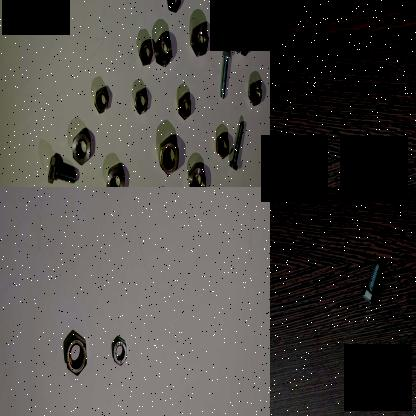Bolts: (360, 258, 387, 308), (43, 154, 79, 187), (230, 119, 248, 172), (217, 44, 232, 103)
NUTS: (63, 332, 91, 382), (72, 122, 95, 168), (158, 136, 181, 178), (152, 32, 174, 70), (233, 21, 257, 55), (110, 332, 130, 372), (190, 24, 210, 60), (136, 38, 155, 72), (214, 130, 234, 160), (132, 86, 150, 117), (247, 78, 266, 106), (104, 162, 125, 187), (94, 86, 110, 118), (176, 94, 194, 120), (188, 164, 206, 187), (165, 0, 183, 16)
